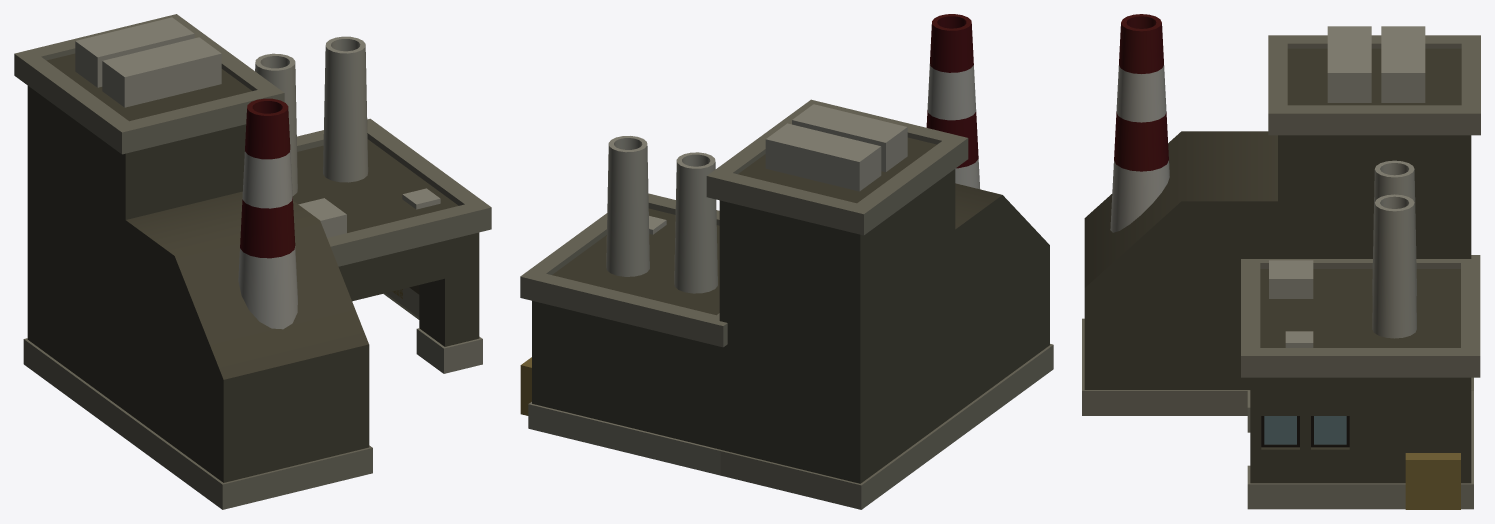
Rendered from factory.fbx.
3 views of the same model, side by side, from view 1: azimuth 30°, elevation 25°; view 2: azimuth 150°, elevation 25°; view 3: azimuth 270°, elevation 25° (orthographic). The views are drawn at different scales.
Parts seen in each view (by area): view 1: roofFrame_a01; view 2: roofFrame_a01; view 3: roofFrame_a01.
Part boxes in pixels (x1,y1,x2,y2): roofFrame_a01: [14, 14, 491, 509]; roofFrame_a01: [520, 14, 1053, 509]; roofFrame_a01: [1082, 14, 1480, 509].
Size of the model in its own units: 7.52 by 7.14 by 7.22.
